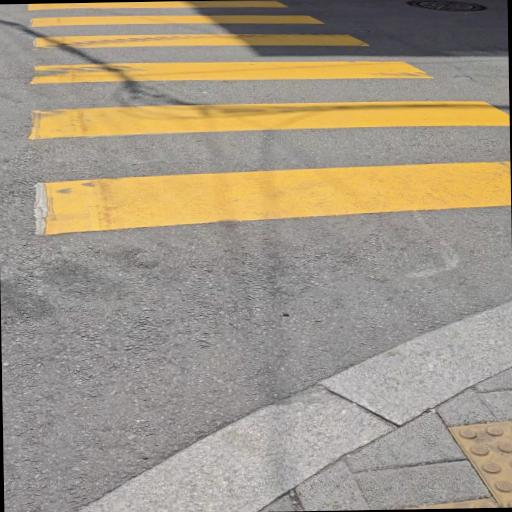yellow-crosswalk: (0, 0, 507, 243)
